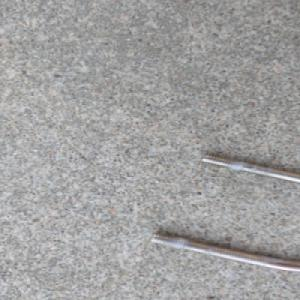ClampPart: (145, 151, 300, 274)
